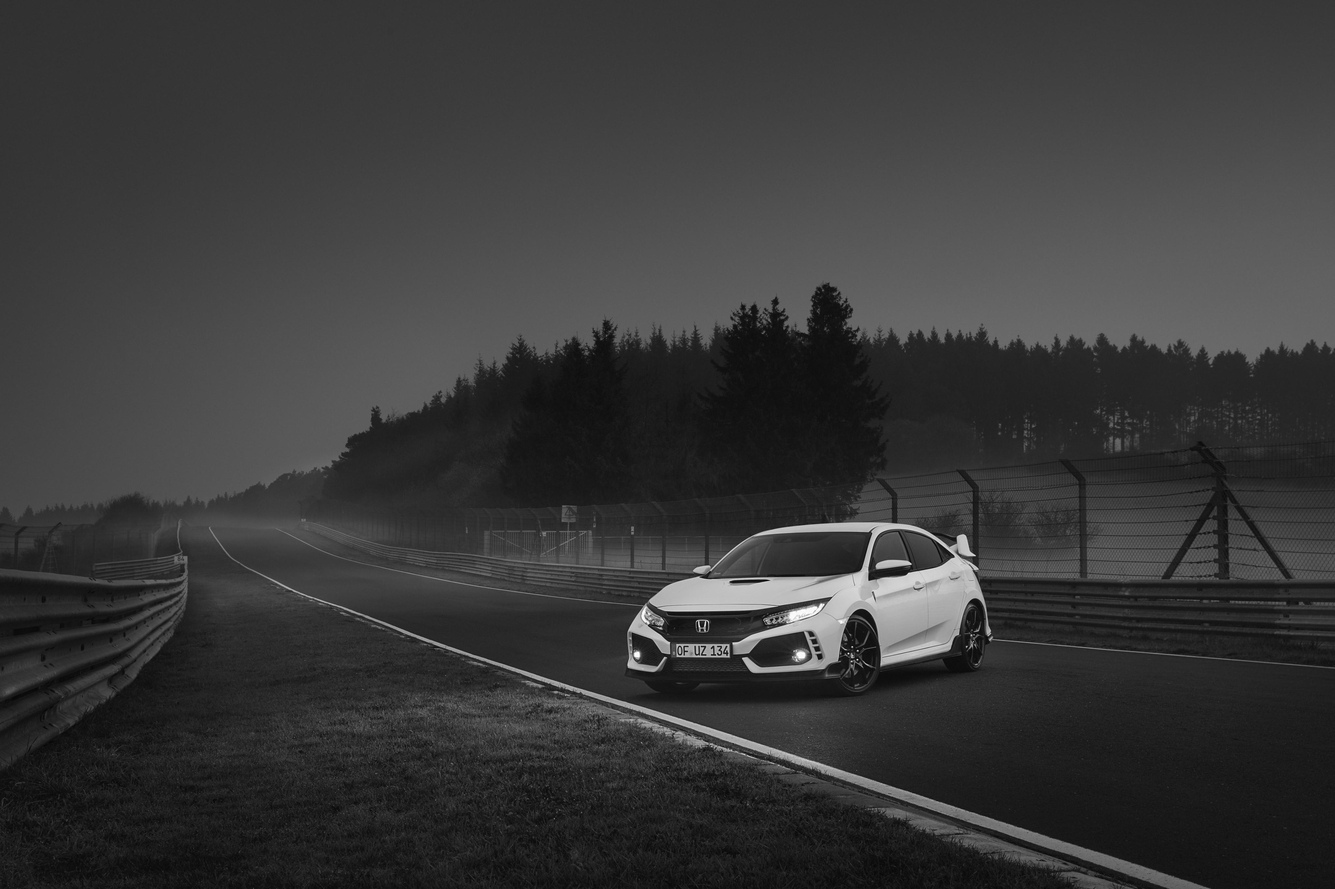Car hood: (645, 572, 862, 614)
Fender - -F-L-: (819, 563, 882, 670)
Fender - -R-L-: (958, 564, 982, 655)
Front bumper: (618, 617, 845, 686)
Headlight - -L-: (756, 597, 833, 631)
Headlight - -R-: (634, 601, 666, 631)
Passenger-s door - -F-L-: (878, 527, 927, 658)
Passenger-s door - -R-L-: (911, 527, 967, 651)
Rear bumper: (977, 599, 1007, 650)
Rear light - -L-: (966, 557, 984, 582)
Side bumper - -L-: (874, 626, 965, 673)
Side mirror - -L-: (872, 556, 914, 581)
Side mirror - -R-: (688, 561, 716, 578)
